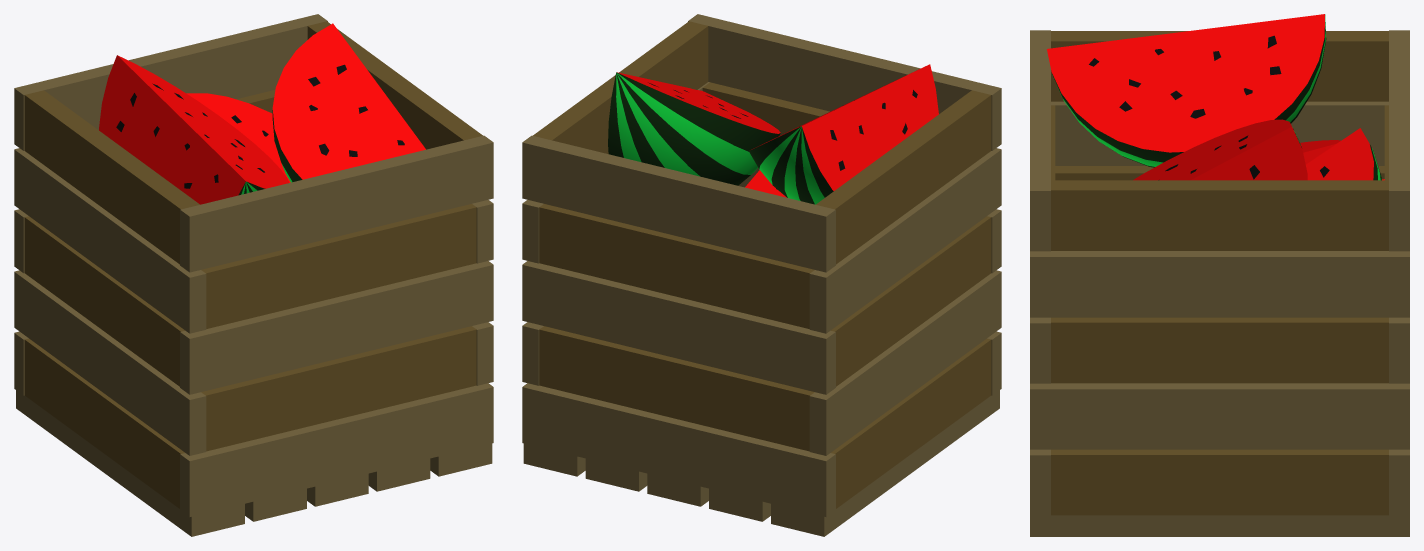
File: Watermelon_Сrop.fbx
The picture shows the model from 3 angles, left to right: view 1: azimuth 30°, elevation 25°; view 2: azimuth 150°, elevation 25°; view 3: azimuth 270°, elevation 25°; orthographic projection. The views are drawn at different scales.
Visible parts, largest first — view 1: Watermelon_Сrop; view 2: Watermelon_Сrop; view 3: Watermelon_Сrop.
Boxes of the visible parts, x1,y1,x2,y2 form: Watermelon_Сrop: (14,14,493,536); Watermelon_Сrop: (522,14,1001,536); Watermelon_Сrop: (1030,14,1409,536).
Bounding box in the file's own units: 37.5 × 37.5 × 43.25.
